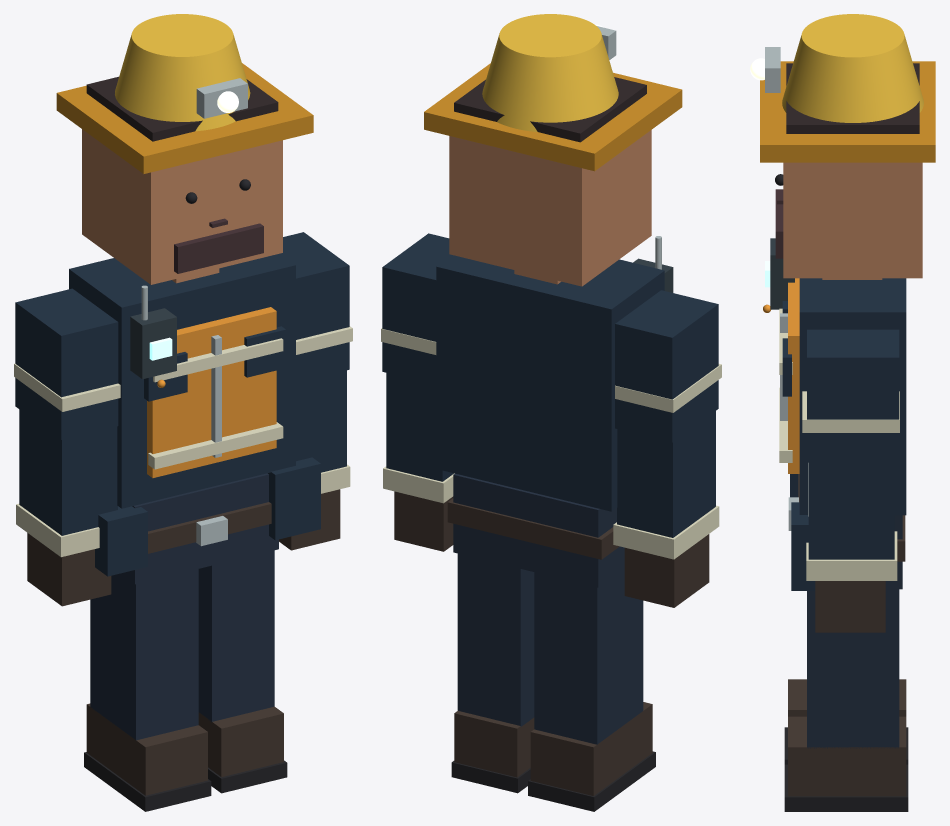
The model's file is eli_mercer.glb.
3 views of the same model, side by side, from view 1: azimuth 30°, elevation 25°; view 2: azimuth 150°, elevation 25°; view 3: azimuth 270°, elevation 25° (orthographic).
Parts seen in each view (by area): view 1: eli_jacket_torso, eli_head, eli_left_trouser, eli_left_upper_arm, eli_right_trouser, eli_hi_vis_front, eli_helmet_crown, eli_left_forearm, eli_helmet_brim, eli_waist, eli_right_upper_arm, eli_left_boot (+23 smaller); view 2: eli_jacket_torso, eli_head, eli_left_trouser, eli_helmet_crown, eli_right_trouser, eli_left_upper_arm, eli_waist, eli_left_forearm, eli_helmet_brim, eli_right_upper_arm, eli_left_boot, eli_right_forearm (+11 smaller); view 3: eli_head, eli_helmet_crown, eli_right_trouser, eli_right_upper_arm, eli_jacket_torso, eli_right_forearm, eli_helmet_brim, eli_right_boot, eli_right_glove, eli_hair, eli_right_boot_sole, eli_right_cuff (+12 smaller).
Boxes of the visible parts, x1=… form: eli_jacket_torso: x1=69, y1=253, x2=295, y2=508; eli_head: x1=82, y1=129, x2=282, y2=284; eli_left_trouser: x1=90, y1=569, x2=198, y2=740; eli_left_upper_arm: x1=15, y1=288, x2=118, y2=439; eli_right_trouser: x1=198, y1=550, x2=274, y2=722; eli_hi_vis_front: x1=147, y1=307, x2=276, y2=477; eli_helmet_crown: x1=115, y1=14, x2=250, y2=131; eli_left_forearm: x1=19, y1=409, x2=117, y2=535; eli_helmet_brim: x1=56, y1=63, x2=313, y2=173; eli_waist: x1=120, y1=473, x2=278, y2=584; eli_right_upper_arm: x1=280, y1=232, x2=349, y2=382; eli_left_boot: x1=86, y1=703, x2=207, y2=795; eli_jacket_torso: x1=436, y1=255, x2=664, y2=511; eli_head: x1=449, y1=130, x2=651, y2=286; eli_left_trouser: x1=534, y1=569, x2=643, y2=744; eli_helmet_crown: x1=482, y1=14, x2=618, y2=131; eli_right_trouser: x1=457, y1=553, x2=534, y2=726; eli_left_upper_arm: x1=615, y1=290, x2=718, y2=442; eli_waist: x1=453, y1=473, x2=624, y2=587; eli_left_forearm: x1=617, y1=411, x2=715, y2=537; eli_helmet_brim: x1=424, y1=63, x2=682, y2=171; eli_right_upper_arm: x1=382, y1=233, x2=451, y2=384; eli_left_boot: x1=530, y1=702, x2=652, y2=795; eli_right_forearm: x1=386, y1=373, x2=453, y2=481; eli_head: x1=783, y1=162, x2=922, y2=278; eli_helmet_crown: x1=782, y1=14, x2=923, y2=122; eli_right_trouser: x1=807, y1=589, x2=899, y2=748; eli_right_upper_arm: x1=807, y1=329, x2=899, y2=462; eli_jacket_torso: x1=799, y1=278, x2=906, y2=515; eli_right_forearm: x1=808, y1=462, x2=894, y2=559; eli_helmet_brim: x1=760, y1=61, x2=935, y2=162; eli_right_boot: x1=788, y1=716, x2=906, y2=796; eli_right_glove: x1=815, y1=581, x2=885, y2=632; eli_hair: x1=786, y1=63, x2=919, y2=133; eli_right_boot_sole: x1=784, y1=764, x2=908, y2=811; eli_right_cuff: x1=806, y1=531, x2=897, y2=580.
Size of the model in its own units: 0.52 by 1.26 by 0.2849.
